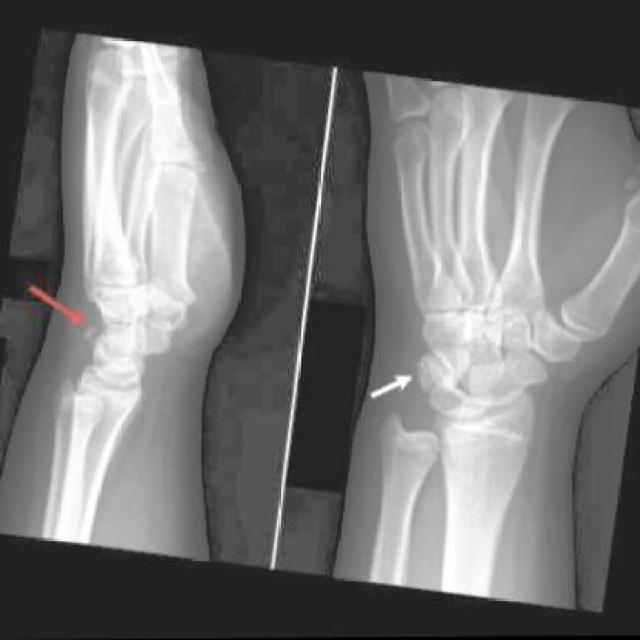Fracture: (413, 350, 450, 390), (80, 320, 113, 351)
